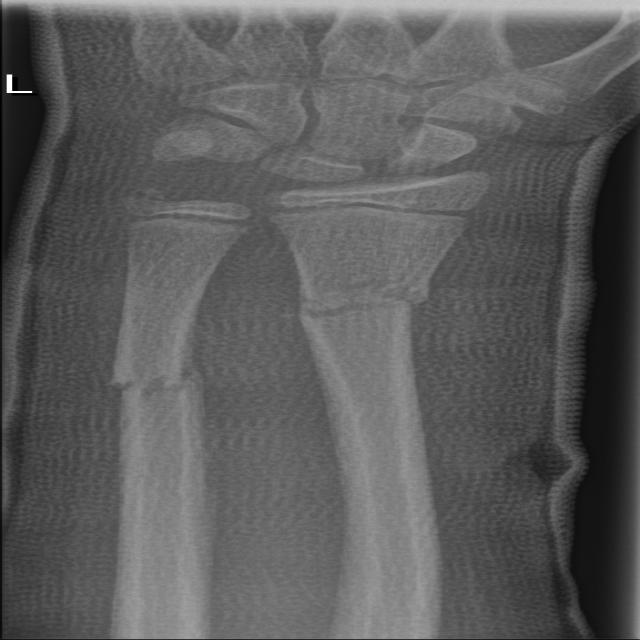radius fracture: (260, 252, 470, 374)
ulna fracture: (79, 314, 241, 481)
